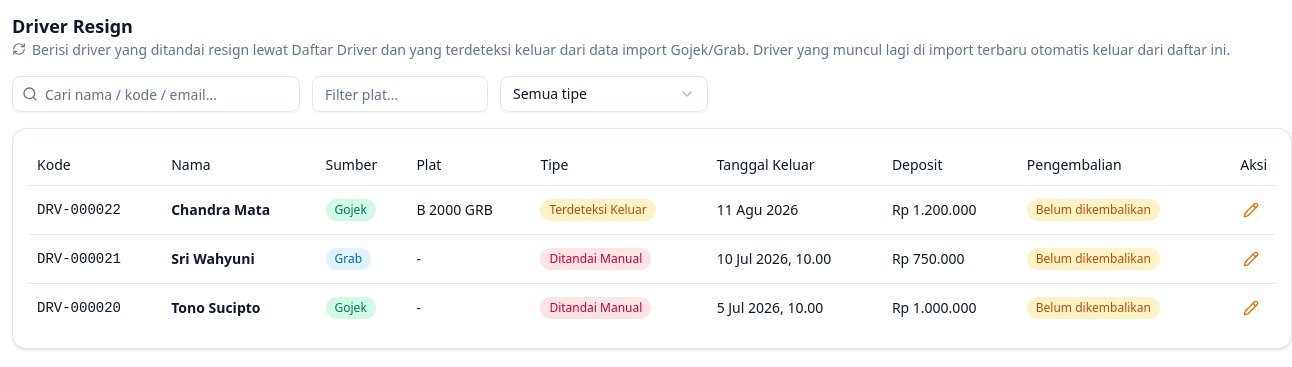
Driver Resign — daftar keluar armada › narrows to the automatically detected exits
The width and height of the screenshot is (1292, 367).
Expected: the text "Chandra Mata" is shown, [163,185,318,234]
Click the dropdown named "Filter tipe resign" at (604, 94), box [500,76,708,112]
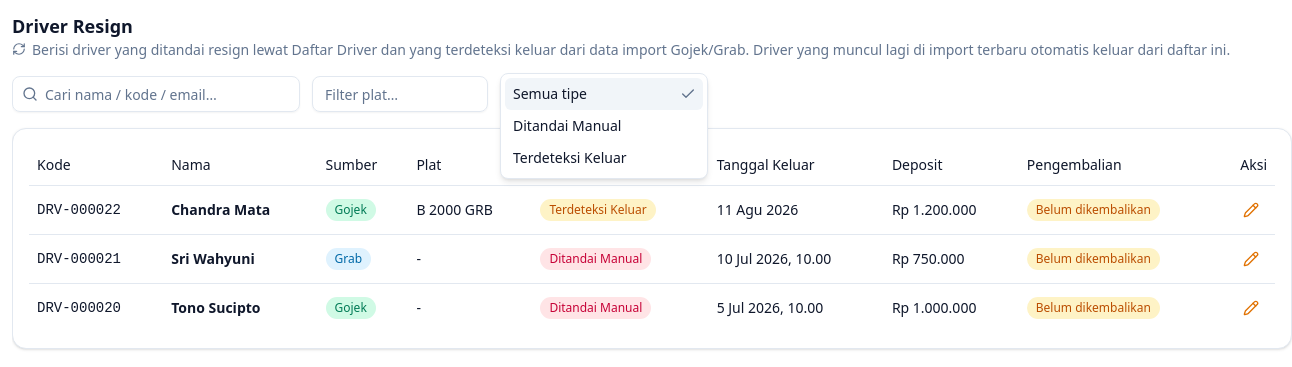
Click the option "Terdeteksi Keluar" at (570, 158), box [513,148,627,167]
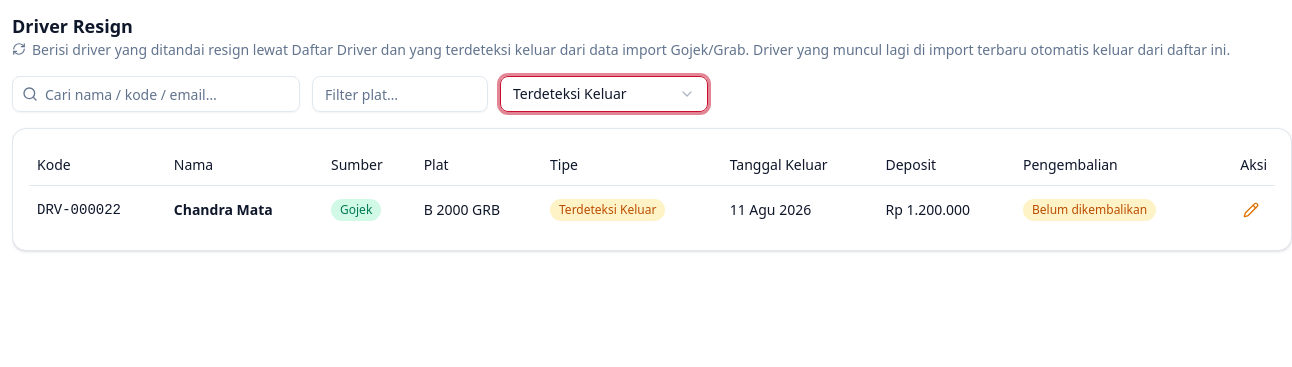
Expected: the text "Chandra Mata" is shown, [166,185,323,234]
Result: the text "Tono Sucipto" is gone
